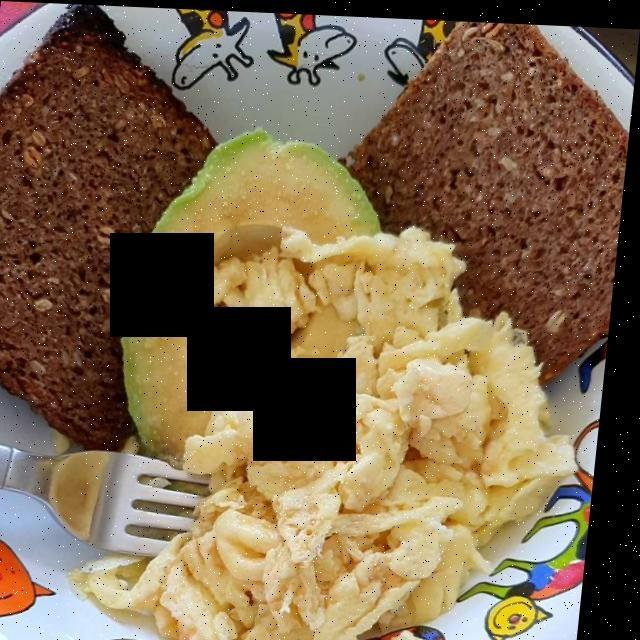avocado: (124, 133, 384, 440)
bread: (0, 11, 625, 440)
eggs: (118, 218, 586, 632)
